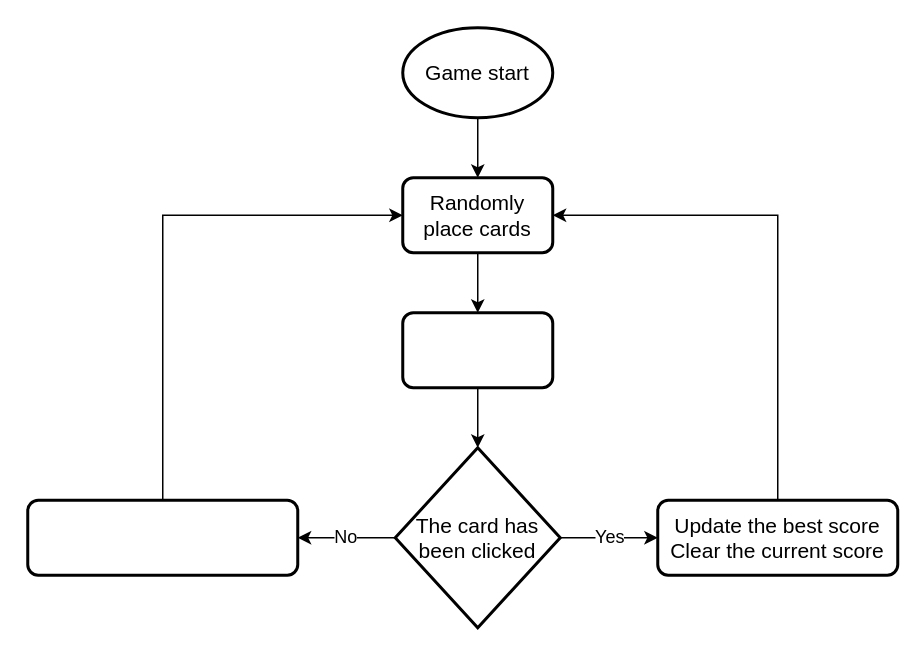
This 924x654 diagram has some shape labels left out. The centre of each missing label's shape, as x and y in pixels:
"Update the best score Update the current score" goes at [162,537].
"User click a card" goes at [477,349].
